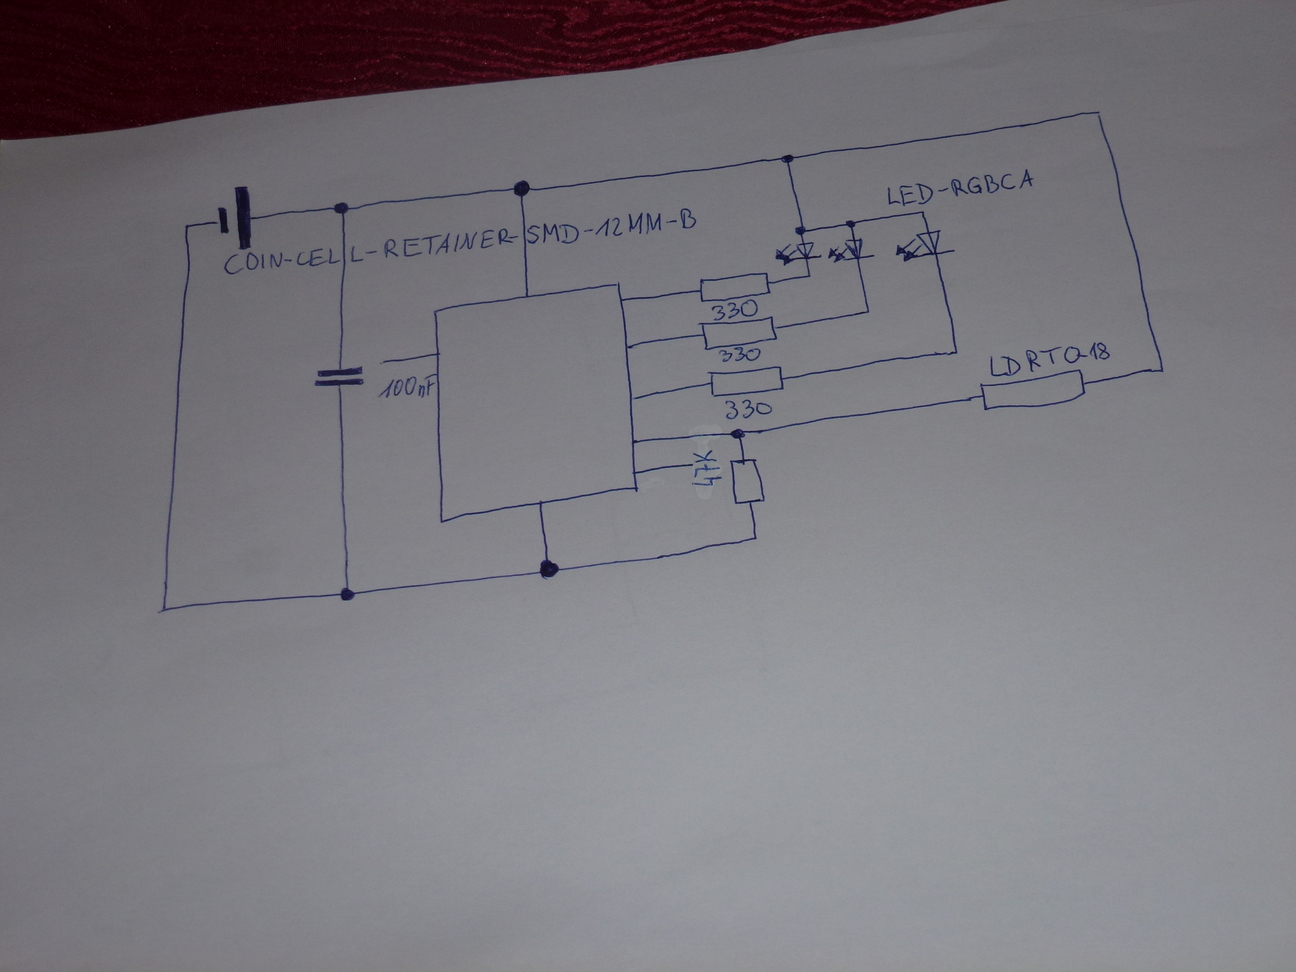capacitor.unpolarized: (313, 362, 372, 390)
diode.light_emitting: (892, 227, 958, 264), (826, 236, 879, 265), (775, 238, 824, 266)
integrated_circuit: (429, 275, 643, 525)
junction: (534, 556, 563, 582), (508, 176, 536, 202), (728, 425, 755, 444), (331, 198, 352, 218), (337, 584, 356, 604), (780, 152, 795, 165), (157, 602, 170, 617), (1092, 105, 1104, 120), (181, 220, 193, 234), (794, 223, 808, 235), (916, 206, 930, 218), (844, 217, 859, 228), (950, 345, 962, 357), (1155, 364, 1168, 376), (748, 532, 760, 543), (862, 305, 873, 315), (804, 270, 813, 281)
resistor: (977, 366, 1088, 414), (696, 314, 778, 352), (706, 363, 784, 399), (697, 270, 772, 304), (726, 456, 768, 506)
text: (222, 206, 698, 278), (884, 166, 1033, 209), (987, 339, 1111, 379), (375, 372, 436, 403), (690, 447, 722, 490), (722, 396, 774, 421), (714, 342, 764, 366), (711, 298, 762, 319)
voltage.dc: (215, 185, 254, 251)
